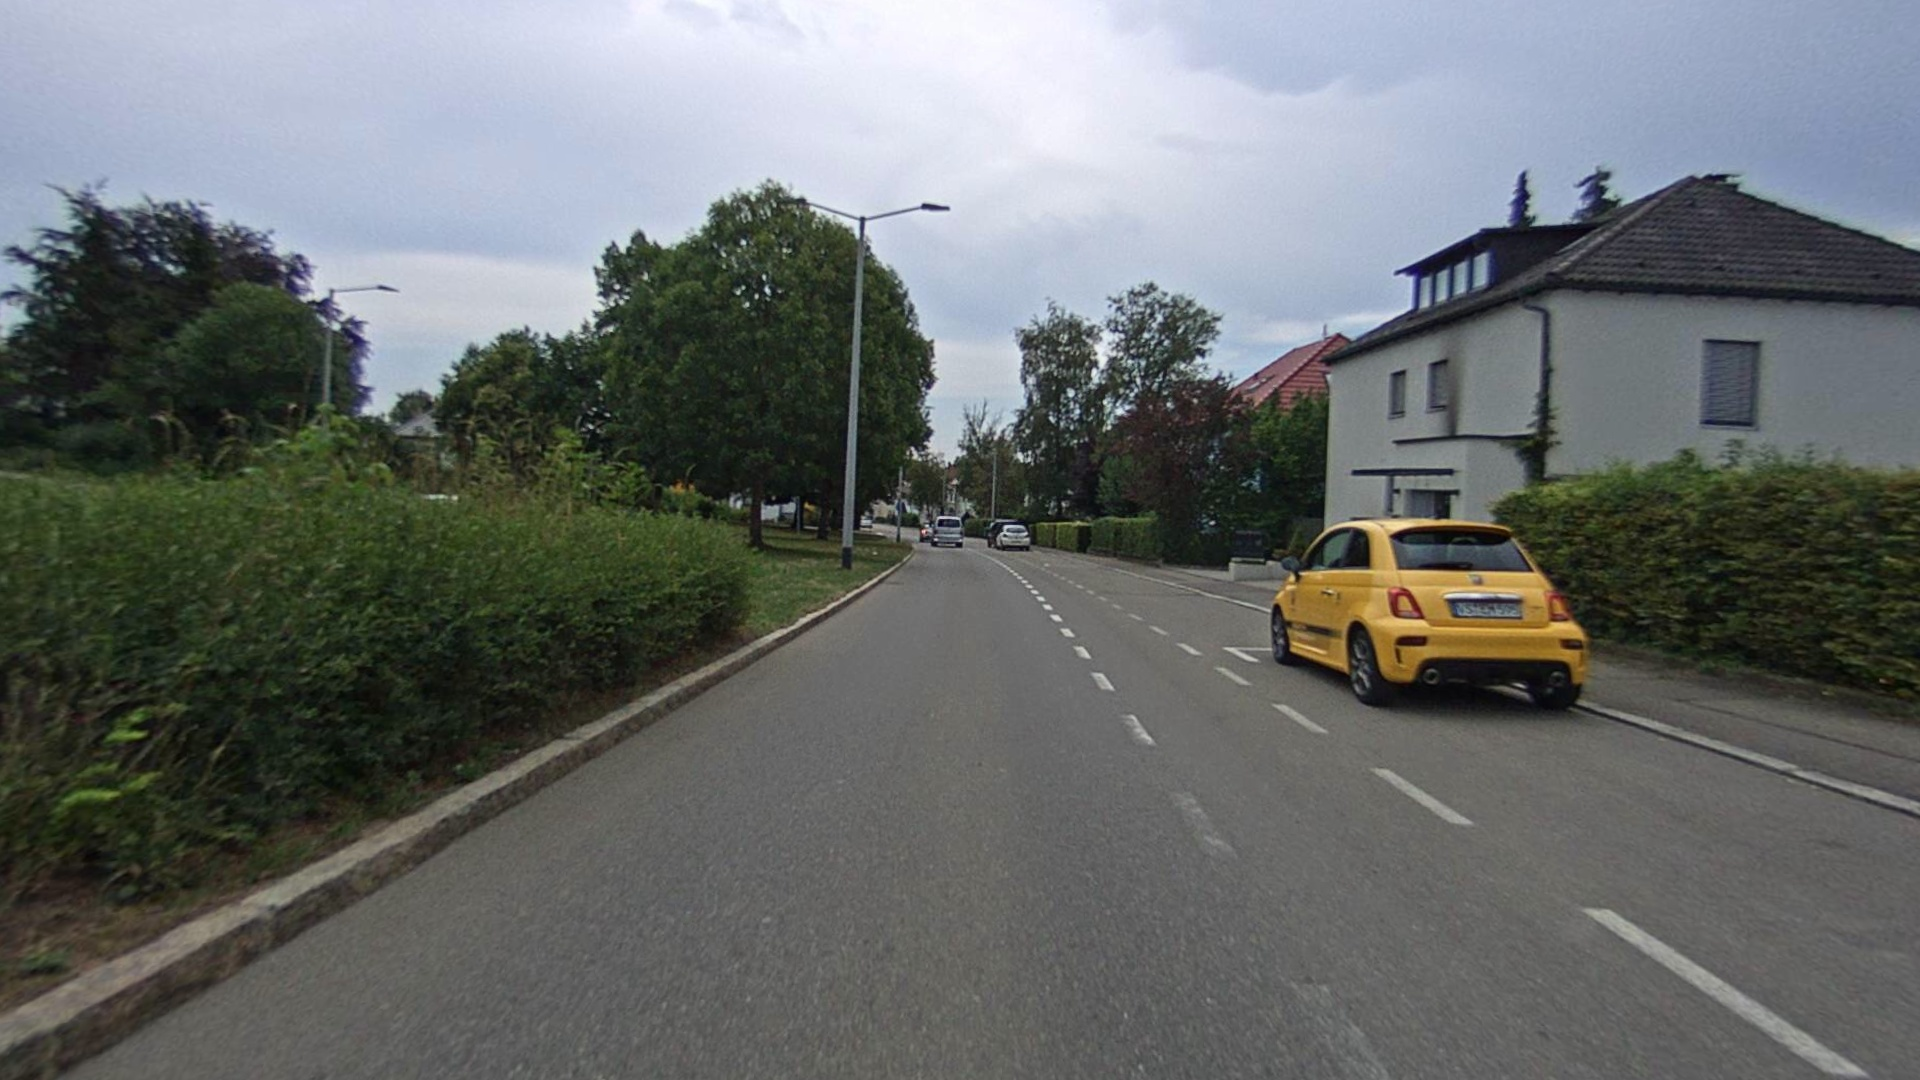car: (1269, 517, 1589, 712)
